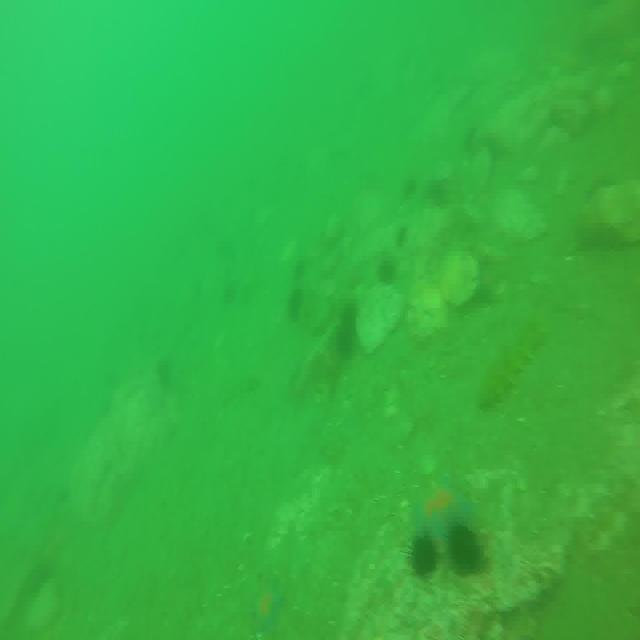echinus: (449, 526, 482, 571), (410, 533, 437, 583), (284, 282, 303, 320), (379, 262, 396, 293), (338, 328, 353, 360), (394, 222, 408, 246)
holothurian: (481, 316, 545, 408)
starfish: (409, 476, 472, 552), (251, 582, 286, 638)
